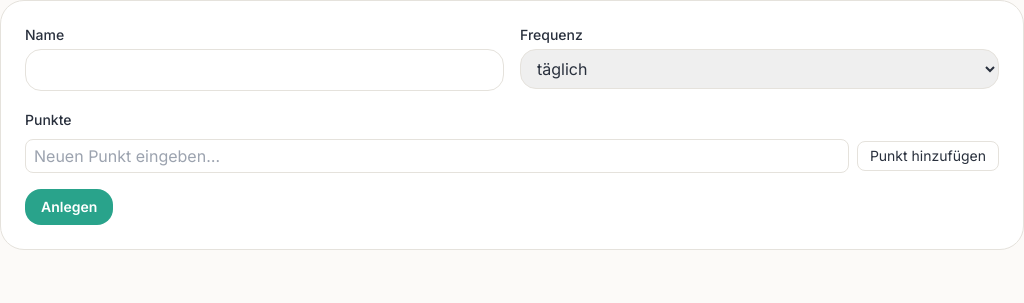
Scenario: TemplateForm › blocks saving without a name
Click the button "Anlegen" at (69, 207), box [25, 189, 113, 225]
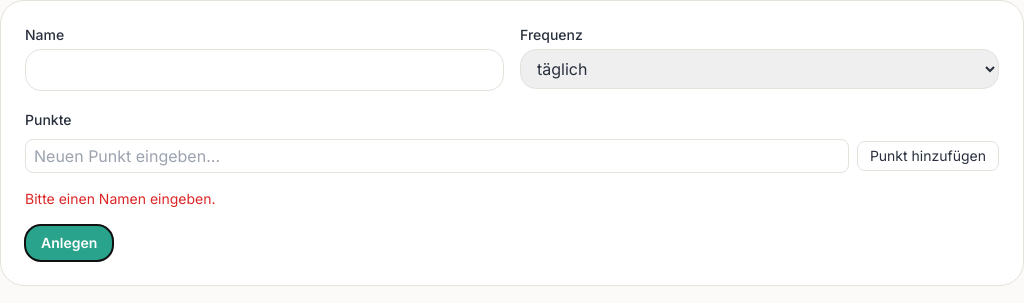
Result: the text "Bitte einen Namen eingeben." is shown at [25, 190, 216, 207]
